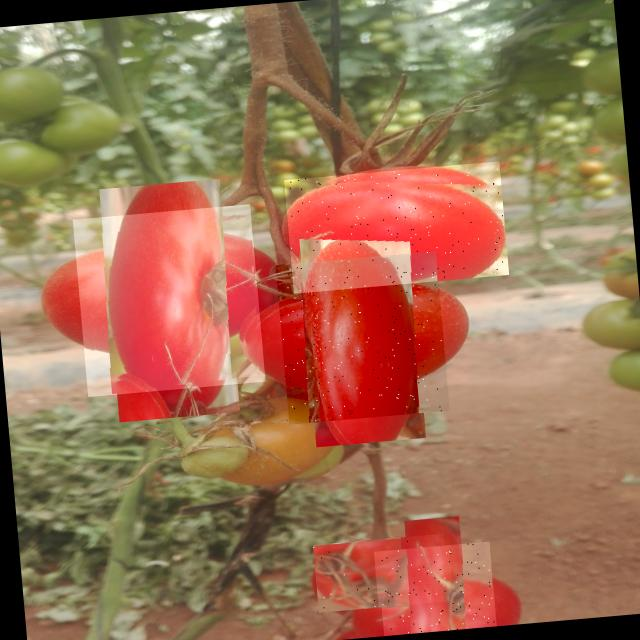Ripe Tomato: (72, 204, 265, 396), (275, 251, 449, 424), (284, 161, 508, 293), (376, 541, 496, 636), (313, 533, 452, 612)
